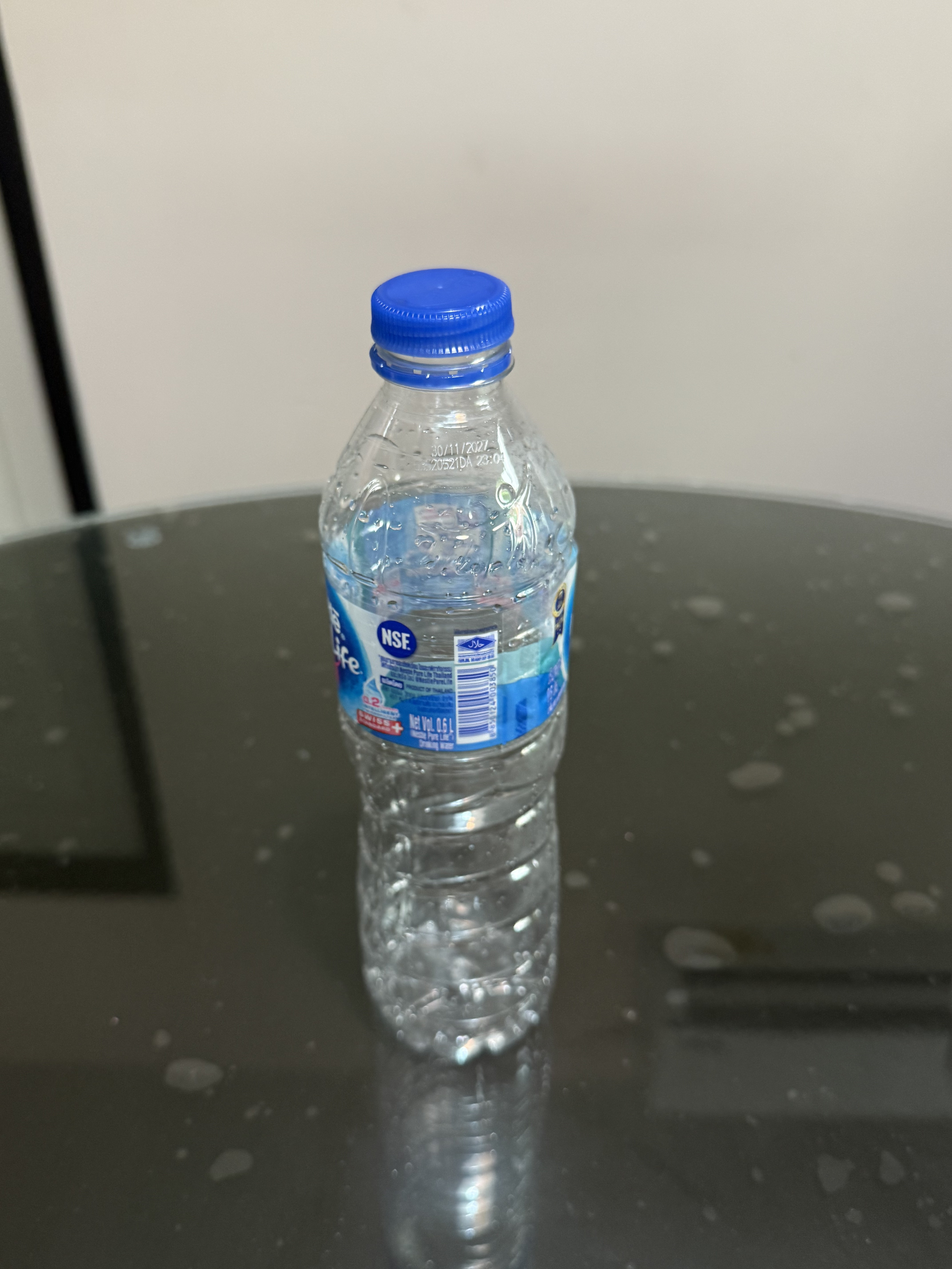half_cap: (364, 262, 518, 388)
